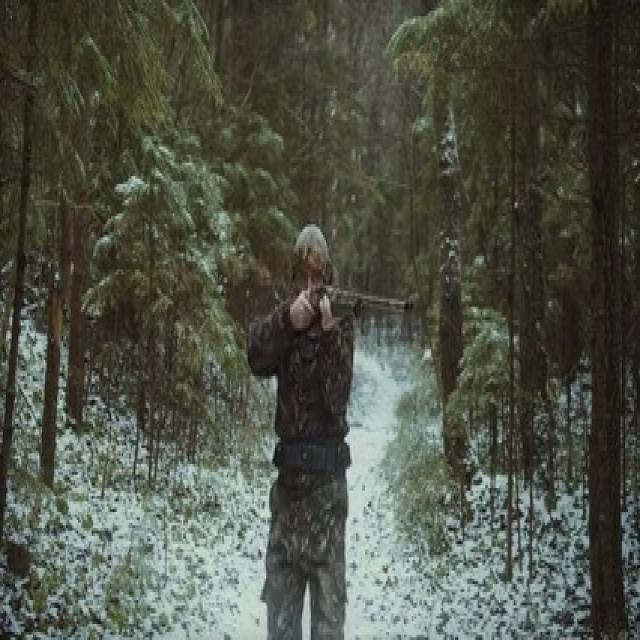Gun_Holder: (299, 277, 416, 332)
Person: (243, 220, 359, 640), (352, 632, 356, 640)
